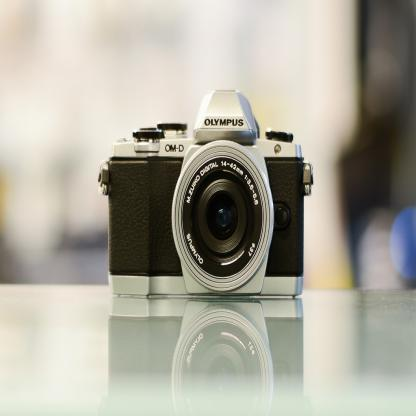Camera: (98, 90, 314, 304)
